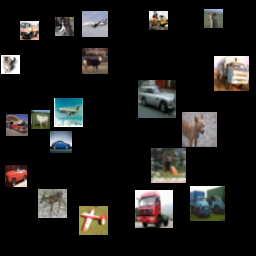airplane: (54, 98, 83, 127), (79, 206, 108, 235), (82, 11, 108, 37)
automobile: (138, 80, 176, 118), (5, 165, 27, 187), (50, 131, 72, 153)
bird: (204, 9, 223, 28)
cat: (1, 55, 20, 74)
deer: (151, 148, 186, 183), (38, 189, 67, 218), (82, 48, 108, 74)
dog: (182, 112, 217, 147), (55, 17, 74, 36)
